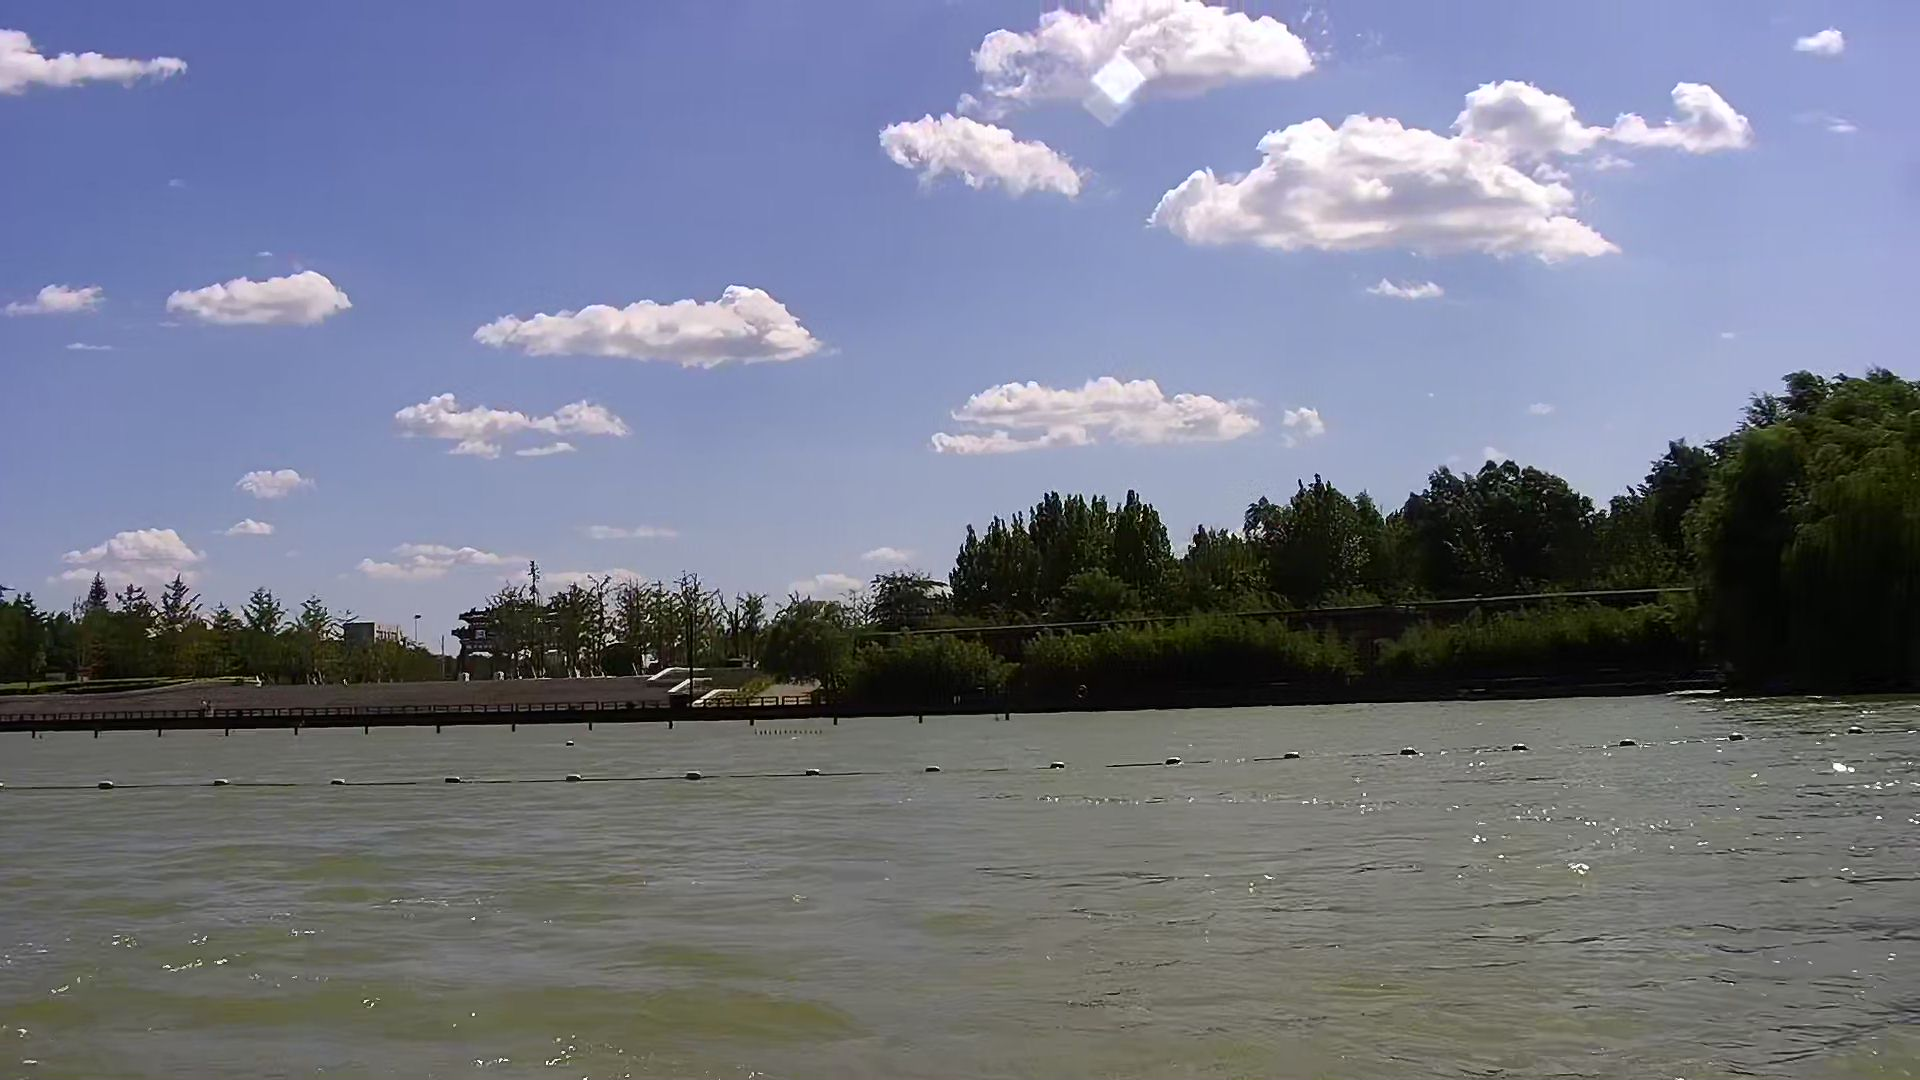ball: (1724, 727, 1750, 752), (920, 760, 947, 782), (323, 774, 349, 793), (1509, 741, 1534, 760), (796, 767, 825, 783), (1396, 745, 1424, 761), (1618, 735, 1640, 753), (1280, 746, 1304, 764), (94, 778, 117, 794), (1160, 758, 1185, 773), (211, 777, 233, 793), (563, 770, 587, 785), (443, 774, 463, 791), (1047, 760, 1068, 775), (688, 769, 704, 789)
harbor: (1, 678, 825, 731)
